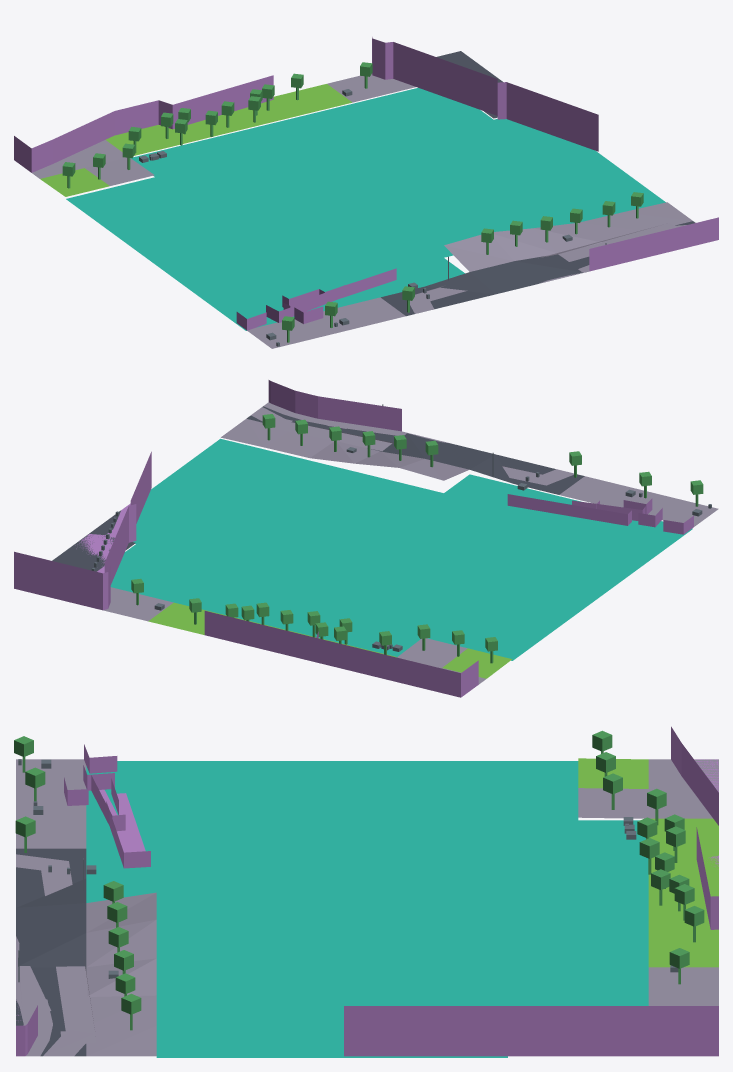
3 renders of one model, top to bottom at view 1: azimuth 30°, elevation 25°; view 2: azimuth 150°, elevation 25°; view 3: azimuth 270°, elevation 25°, orthographic. The views are drawn at different scales.
Visible parts, largest first — view 1: compiled-chunk; view 2: compiled-chunk; view 3: compiled-chunk.
Part boxes in pixels (x1=…): compiled-chunk: x1=14, y1=37, x2=718, y2=348; compiled-chunk: x1=14, y1=380, x2=718, y2=697; compiled-chunk: x1=14, y1=726, x2=718, y2=1057.
Size of the model in its own units: 120 by 9.79 by 120.
